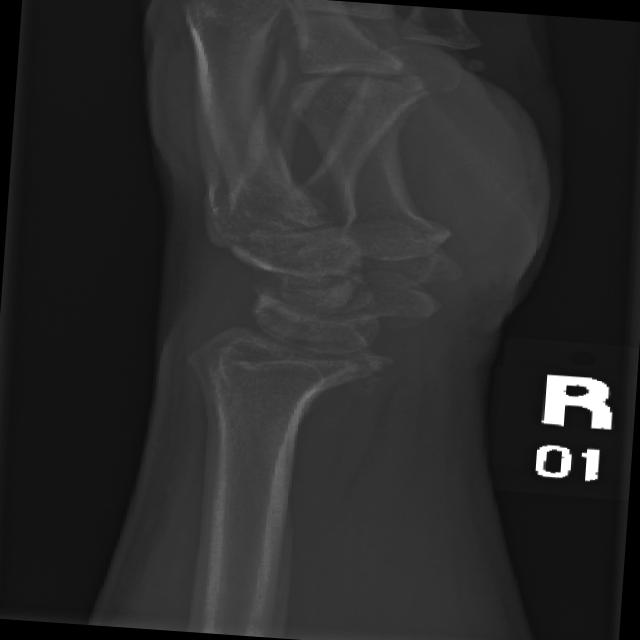fingers positive: (168, 308, 436, 417)
